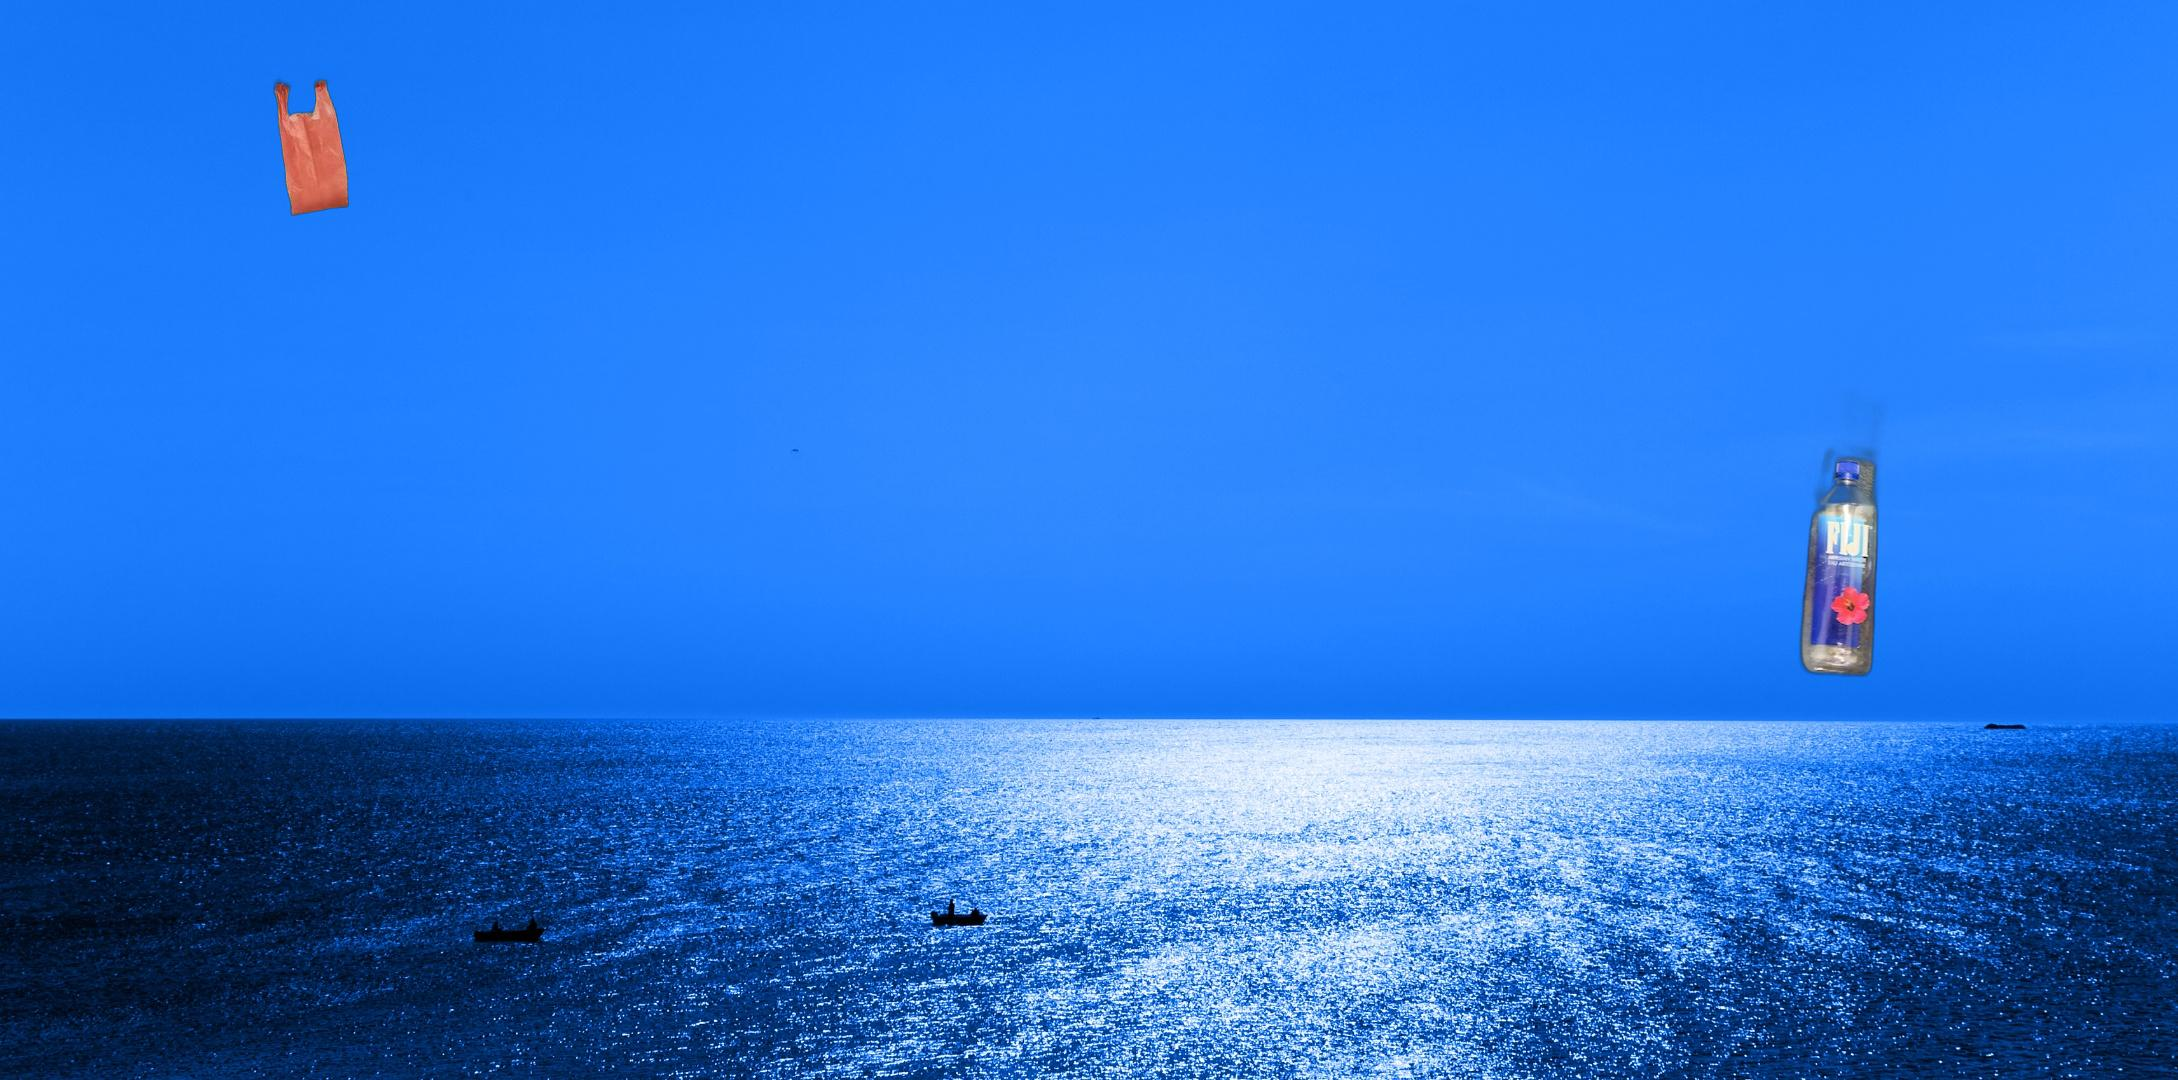plastic-bag: (271, 74, 352, 218)
plastic-bottles: (1795, 382, 1891, 681)
